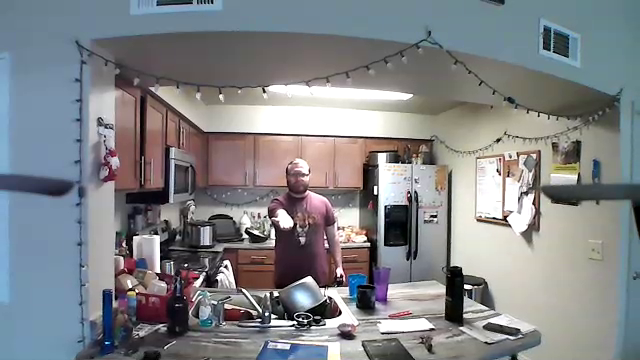land: (268, 212, 298, 235)
